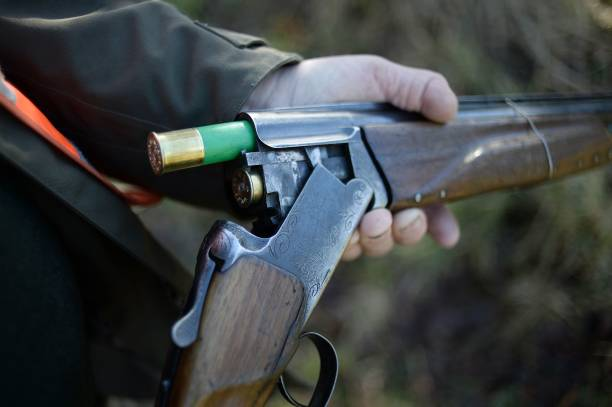shotgun: (144, 91, 611, 407)
